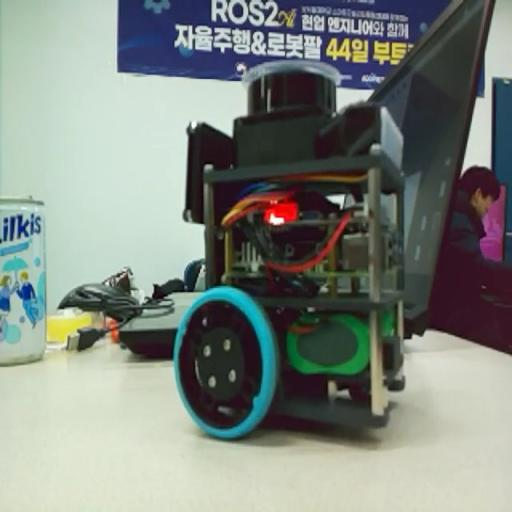pinky_63: (177, 57, 412, 456)
